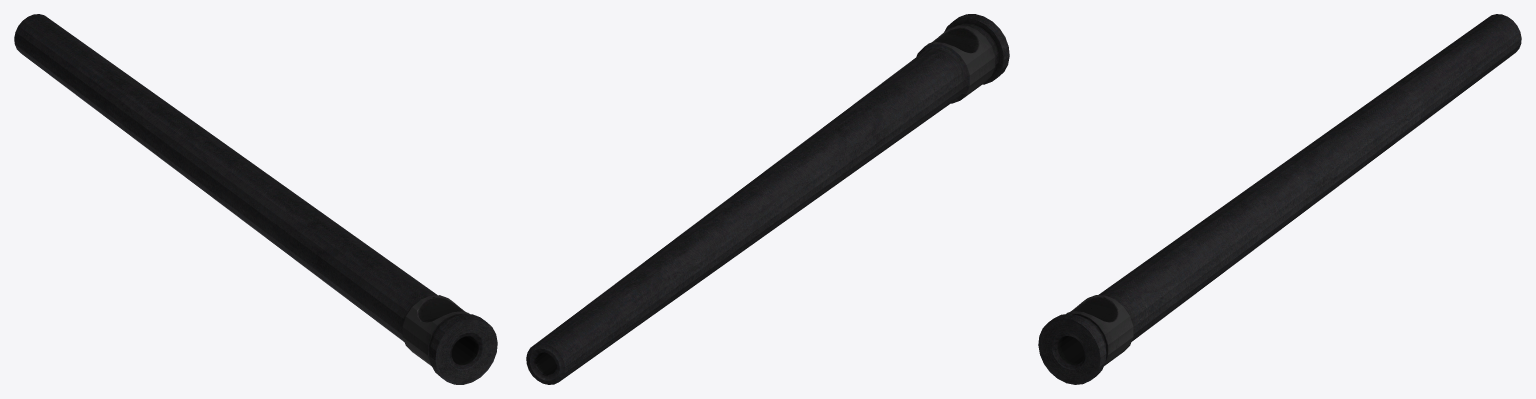
3 renders of one model, left to right at view 1: azimuth 30°, elevation 25°; view 2: azimuth 150°, elevation 25°; view 3: azimuth 330°, elevation 25°, orthographic.
Visible parts, largest first — view 1: TW_5ea02bb600685063ec28bfa1_PZ_Import; view 2: TW_5ea02bb600685063ec28bfa1_PZ_Import; view 3: TW_5ea02bb600685063ec28bfa1_PZ_Import.
Part boxes in pixels (bbox=[...]): TW_5ea02bb600685063ec28bfa1_PZ_Import: bbox=[14, 14, 497, 384]; TW_5ea02bb600685063ec28bfa1_PZ_Import: bbox=[526, 14, 1009, 384]; TW_5ea02bb600685063ec28bfa1_PZ_Import: bbox=[1038, 14, 1521, 384].
Size of the model in its own units: 0.0131 by 0.1576 by 0.013.
1 material, 1 textured.
